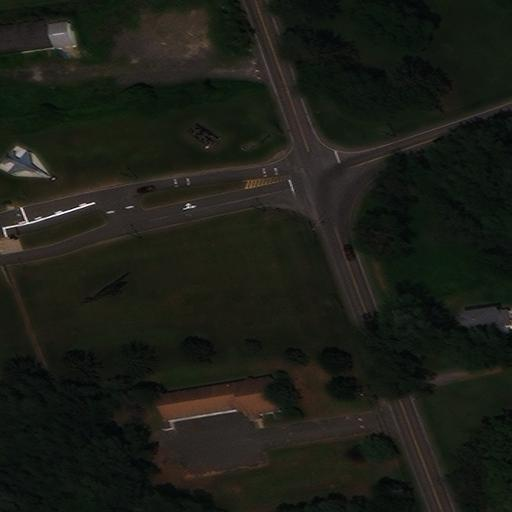Military Fighter: (5, 150, 48, 174)
